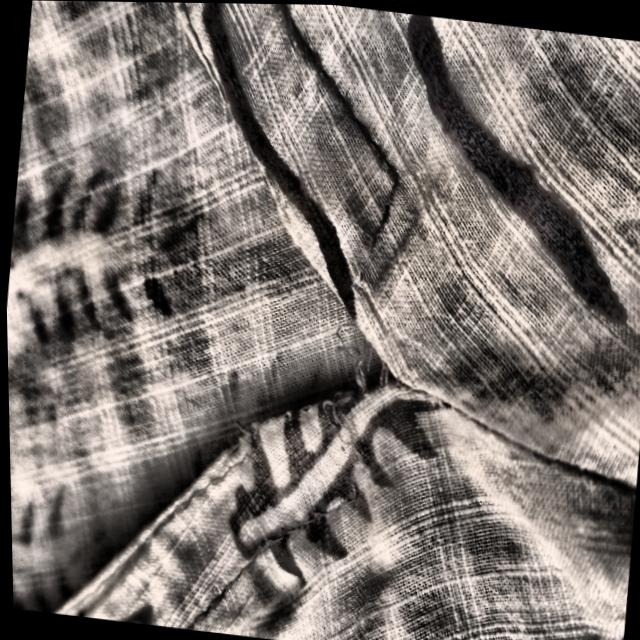Stitch: (283, 278, 416, 543), (208, 413, 273, 482)
